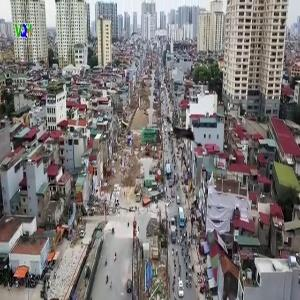drone: (155, 106, 216, 167)
